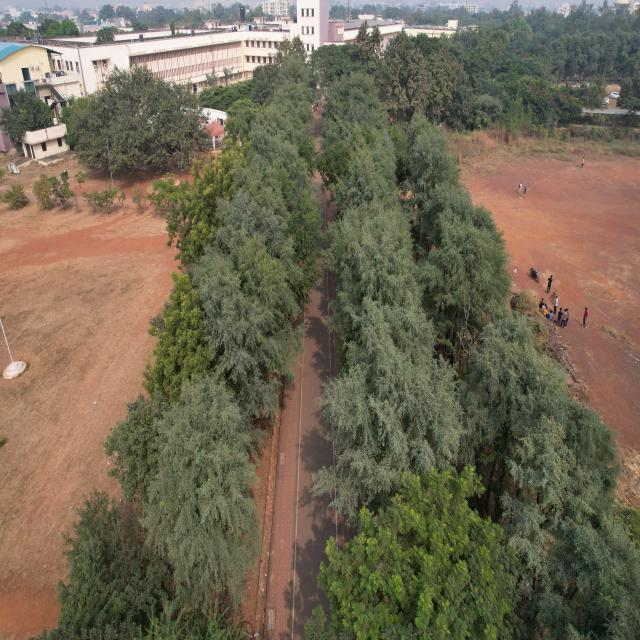Devakanchan tree: (116, 402, 157, 496)
Neem Tree: (174, 149, 231, 252), (152, 298, 200, 391)
